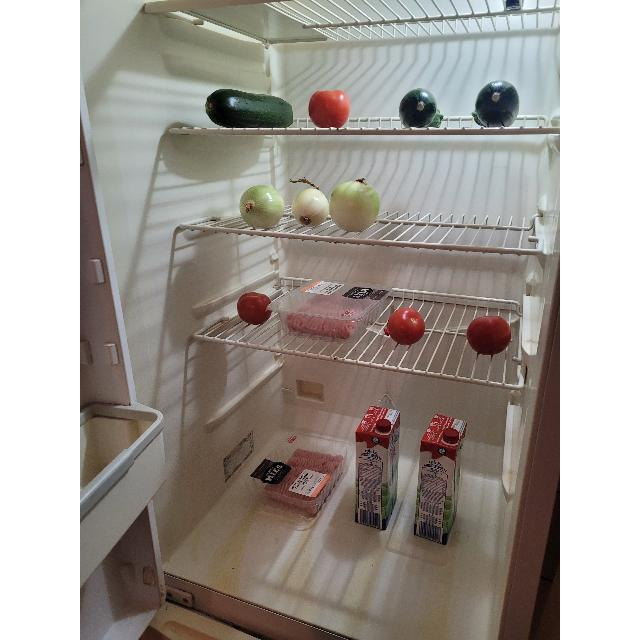meat: (262, 448, 342, 514), (287, 296, 368, 338)
milk: (414, 413, 466, 547), (354, 404, 400, 534)
onion: (329, 178, 381, 232), (239, 185, 285, 229), (292, 188, 331, 228)
tomato: (465, 314, 511, 356), (308, 89, 352, 129), (386, 306, 426, 346), (236, 292, 272, 326)
zucchini: (208, 90, 292, 128), (474, 80, 520, 128), (398, 89, 438, 128)
